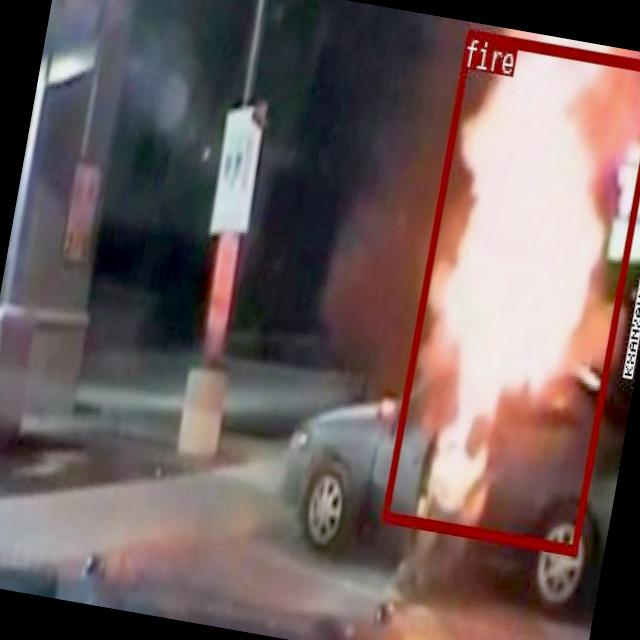fire: (381, 26, 640, 552)
